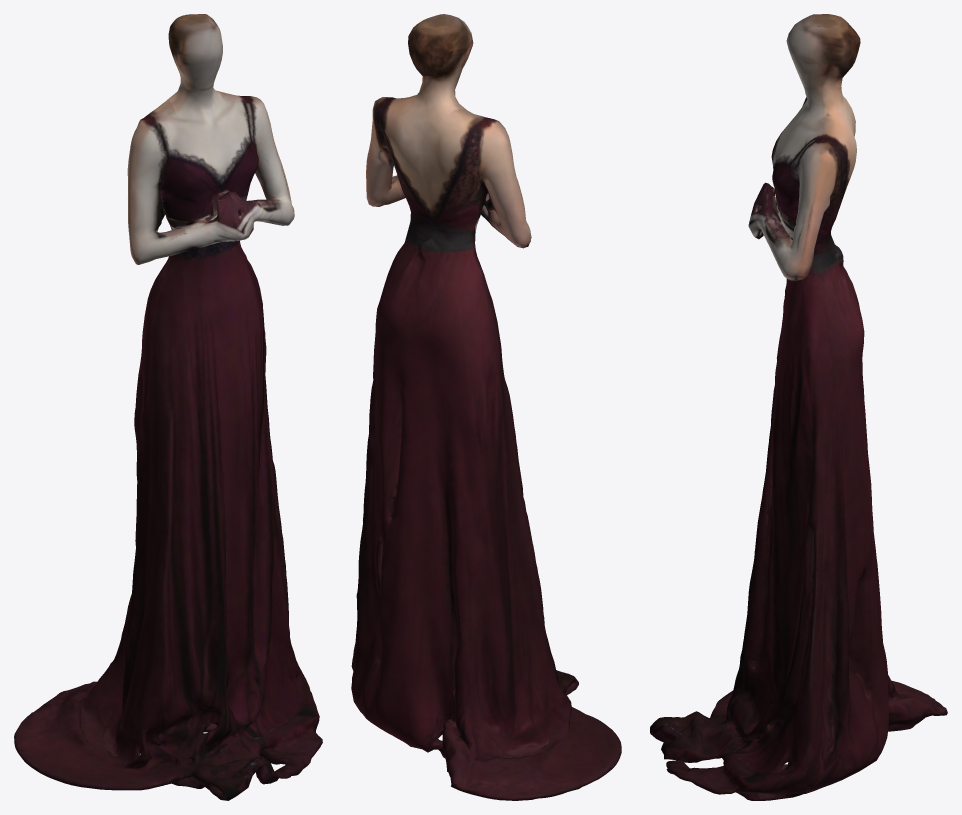
The model's file is job_1743891072_refined.glb.
3 renders of one model, left to right at view 1: azimuth 30°, elevation 25°; view 2: azimuth 150°, elevation 25°; view 3: azimuth 270°, elevation 25°, orthographic. The views are drawn at different scales.
Size of the model in its own units: 0.7696 by 2 by 0.7226.
1 material, 1 textured.
